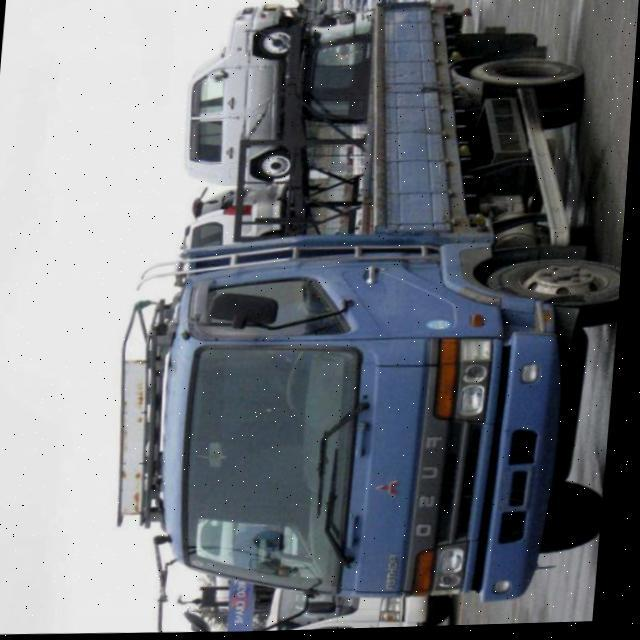truck: (108, 0, 640, 637)
